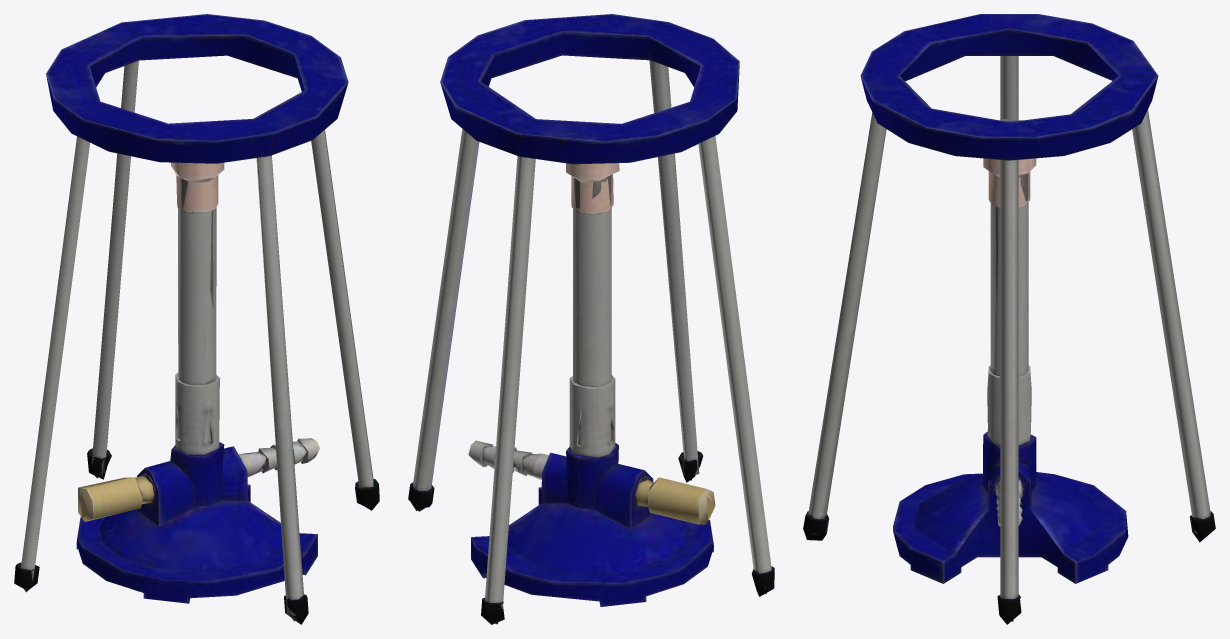
Rendered from bunsen_burner.glb.
3 views of the same model, side by side, from view 1: azimuth 30°, elevation 25°; view 2: azimuth 150°, elevation 25°; view 3: azimuth 270°, elevation 25° (orthographic). The views are drawn at different scales.
Visible parts, largest first — view 1: burner_stand, bunsen_burner; view 2: burner_stand, bunsen_burner; view 3: burner_stand, bunsen_burner.
Boxes of the visible parts, bbox=[...] form: burner_stand: bbox=[14, 14, 379, 624]; bunsen_burner: bbox=[76, 162, 319, 603]; burner_stand: bbox=[408, 14, 774, 624]; bunsen_burner: bbox=[468, 122, 715, 606]; burner_stand: bbox=[803, 14, 1215, 624]; bunsen_burner: bbox=[893, 119, 1128, 583].
Size of the model in its own units: 0.1388 by 0.1731 by 0.1388.
Materials: 1 (1 with a texture image).
